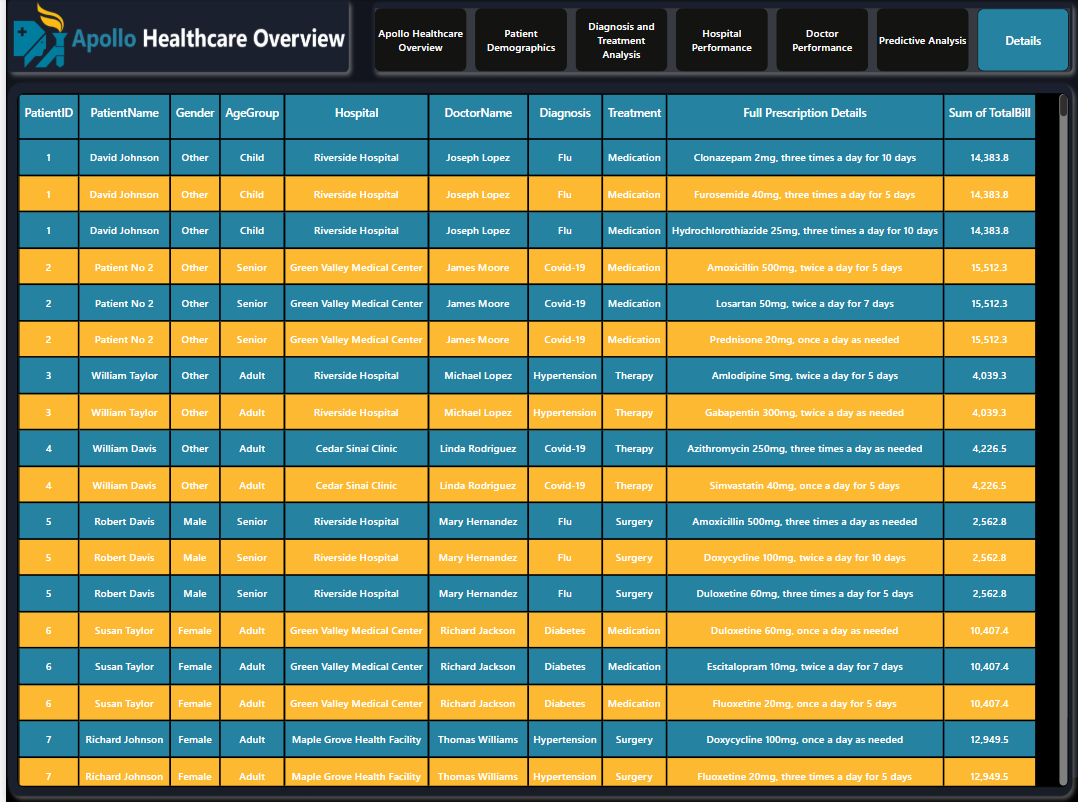

This screenshot's page, from the dashboard's own definition file:
{"tool":"powerbi","page":{"name":"Details","canvas":[1245,934],"ordinal":6},"visuals":[{"type":"tableEx","fields":{"Values":["Full Prescription Details.PatientID","Healthcare 1.PatientName","Healthcare 1.Gender","Healthcare 1.AgeGroup","Healthcare 2.Hospital","Healthcare 2.DoctorName","Full Prescription Details.Diagnosis","Healthcare 1.Treatment","Full Prescription Details.Full Prescription Details","Healthcare 1.TotalBill"]},"box":[12.5,111.1,1214.5,801.3],"z":0},{"type":"pageNavigator","box":[425.7,12.5,802.9,73.6],"z":1000}]}

Visuals, with their boxes on the page's 1245x934 design canvas (x1, y1, x2, y2). These are canvas units, not pixel positions in the 1078x802 screenshot, which may show the page scaled, cropped or inside an application window:
tableEx - Full Prescription Details.PatientID x Healthcare 1.PatientName: Rect(12, 111, 1227, 912)
pageNavigator: Rect(426, 12, 1229, 86)
